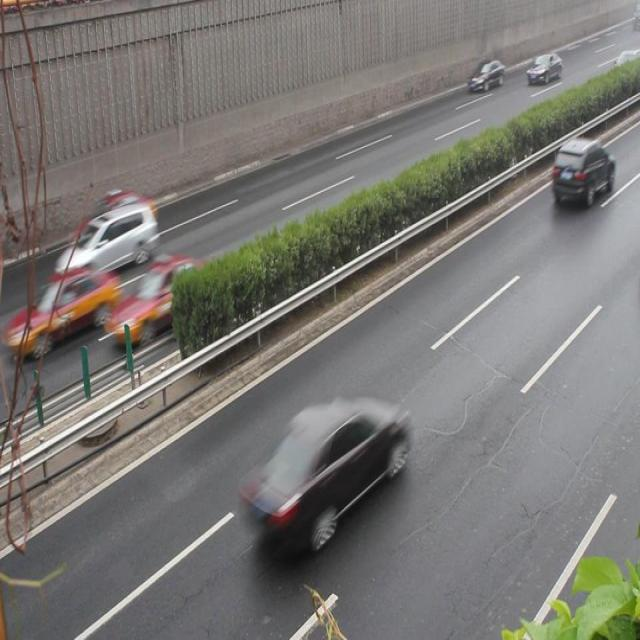car: (248, 390, 405, 542), (0, 265, 119, 357), (107, 255, 218, 342), (54, 201, 157, 279), (72, 192, 161, 249), (548, 138, 614, 208)
